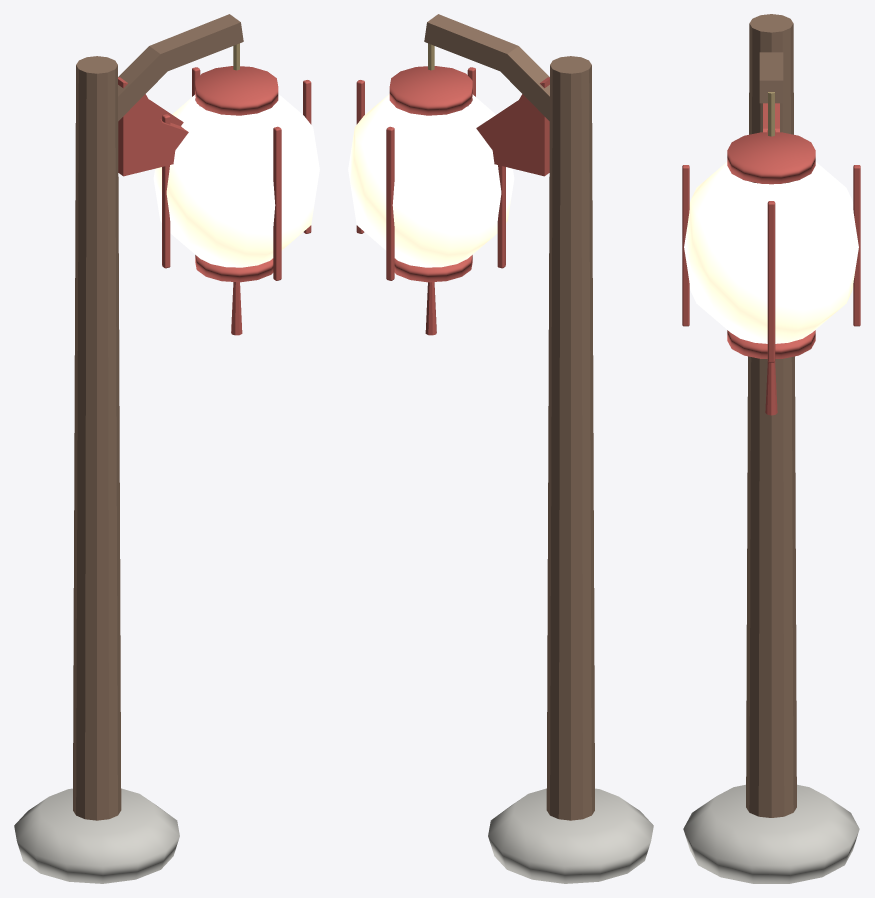
The model's file is silk-lantern.glb.
3 renders of one model, left to right at view 1: azimuth 30°, elevation 25°; view 2: azimuth 150°, elevation 25°; view 3: azimuth 270°, elevation 25°, orthographic. The views are drawn at different scales.
Visible parts, largest first — view 1: hanging-silk-lantern, lantern/paper, lantern/lacquer; view 2: hanging-silk-lantern, lantern/paper, lantern/lacquer; view 3: hanging-silk-lantern, lantern/paper, lantern/lacquer.
Part boxes in pixels (left/top/right/bottom): hanging-silk-lantern: left=14, top=14, right=243, bottom=883; lantern/paper: left=153, top=94, right=319, bottom=267; lantern/lacquer: left=162, top=66, right=311, bottom=335; hanging-silk-lantern: left=424, top=14, right=653, bottom=883; lantern/paper: left=348, top=94, right=514, bottom=267; lantern/lacquer: left=356, top=66, right=505, bottom=335; hanging-silk-lantern: left=683, top=14, right=859, bottom=883; lantern/paper: left=684, top=162, right=858, bottom=343; lantern/lacquer: left=682, top=130, right=860, bottom=415.
Bounding box in the file's own units: 1.02 × 2.73 × 0.5264.
